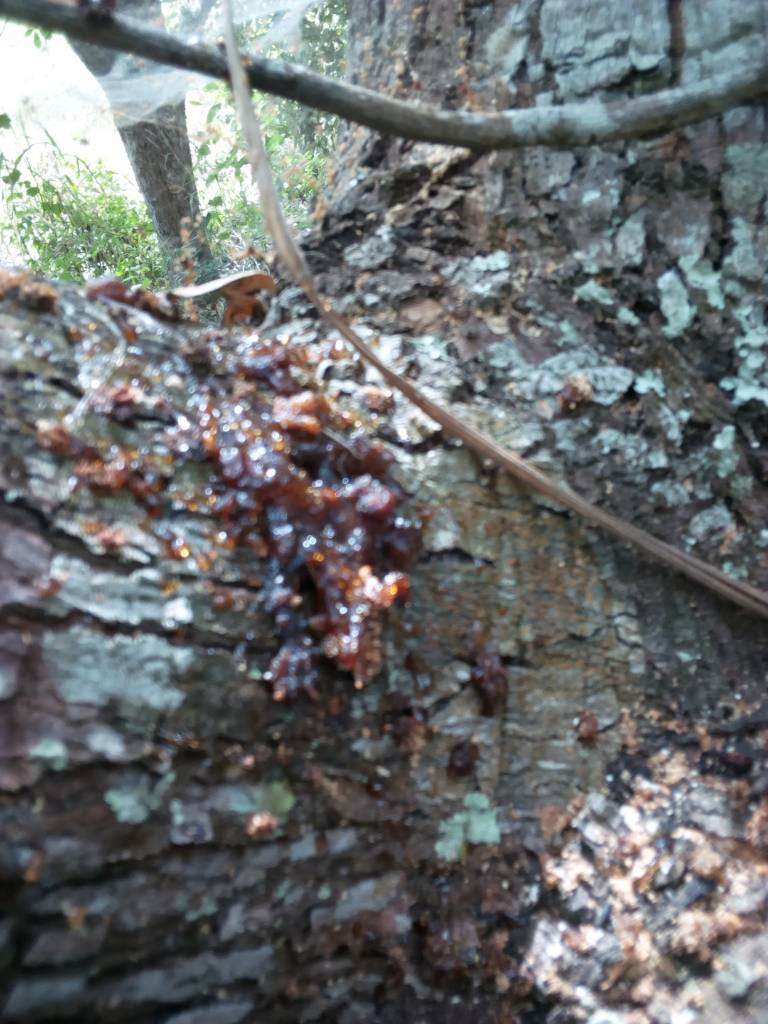Gommose: (22, 283, 416, 696)
